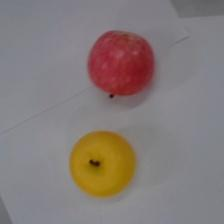red: (87, 30, 154, 100)
yellow: (70, 130, 137, 198)
